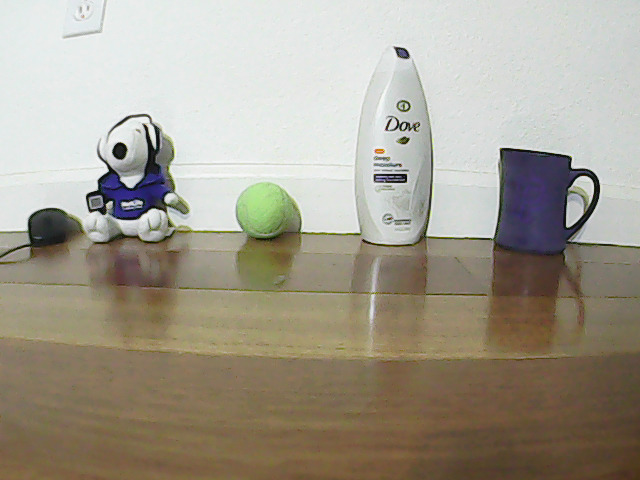ball: (233, 182, 299, 244)
mouse: (27, 202, 69, 250)
mug: (498, 136, 600, 260)
snoopy: (94, 118, 190, 241)
soap: (351, 43, 434, 251)
